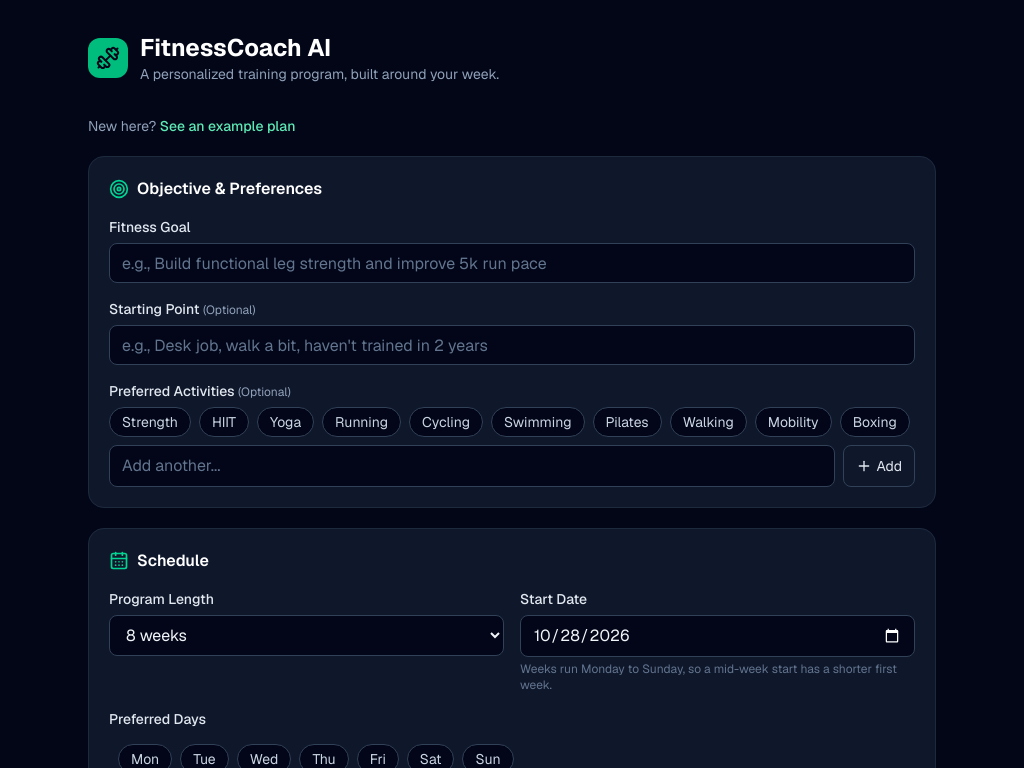
example plan › New plan returns to the form and clears the example
Step 1. Click the button "See an example plan" → (228, 126), box [160,116,296,136]
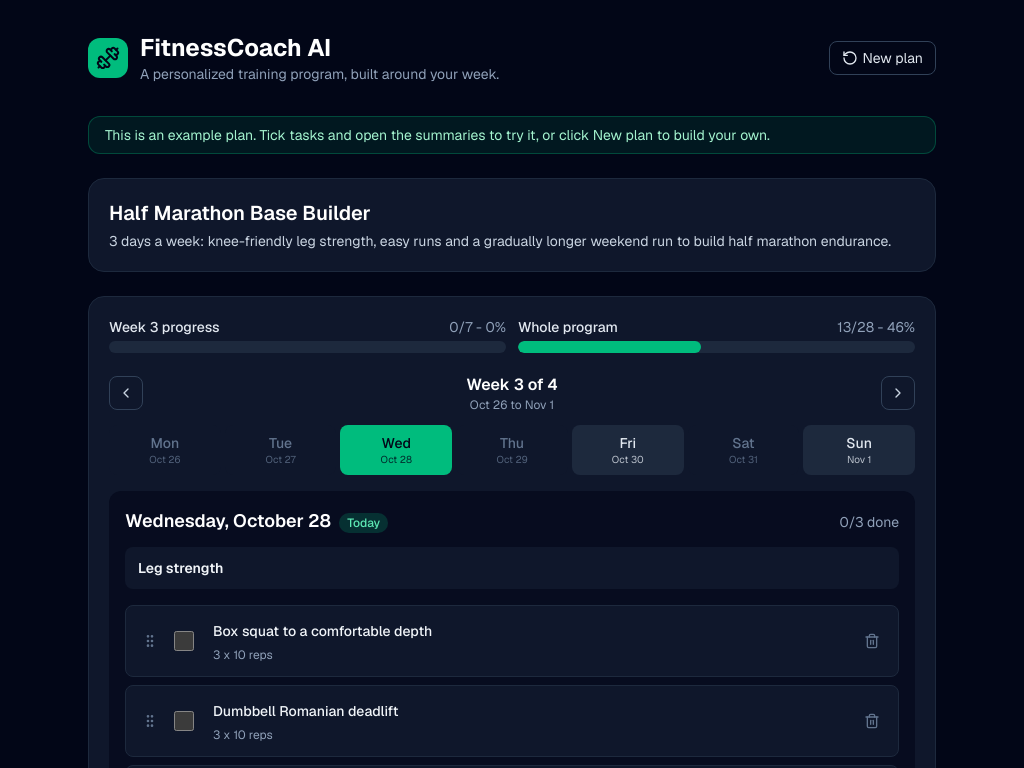
Expected: the heading "Half Marathon Base Builder" is shown, [109,200,371,226]
Step 2. Click the button "New plan" → (883, 58), box [830,41,936,75]
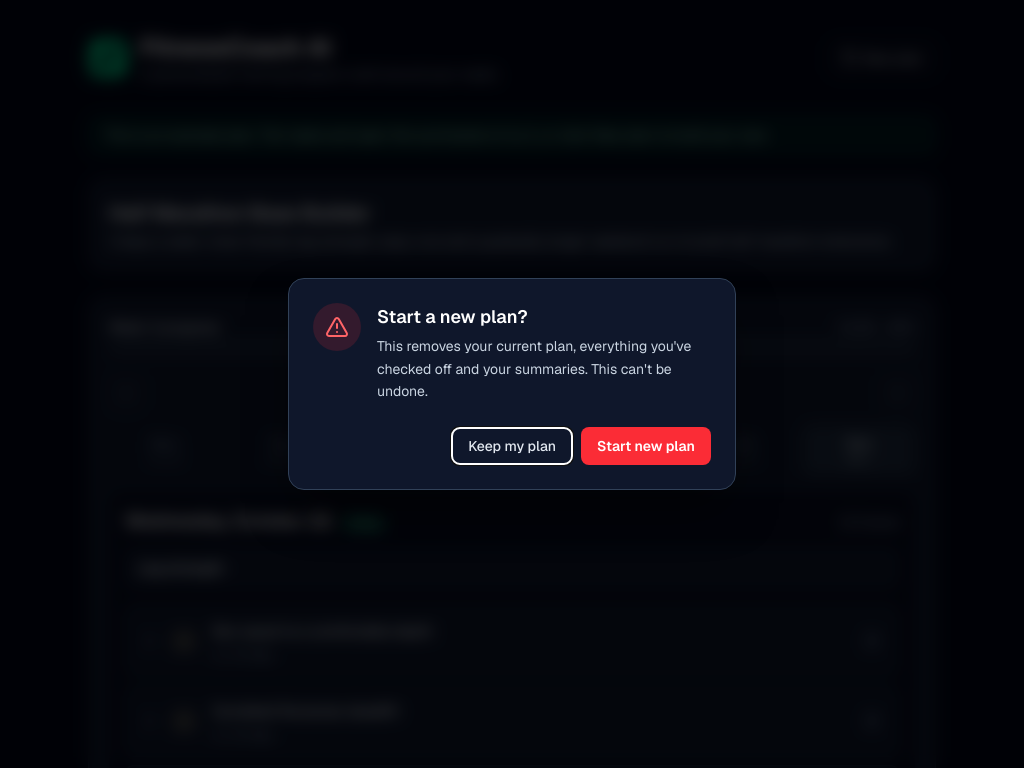
Step 3. Click the button "Start new plan" → (646, 446), box [581,427,711,465]
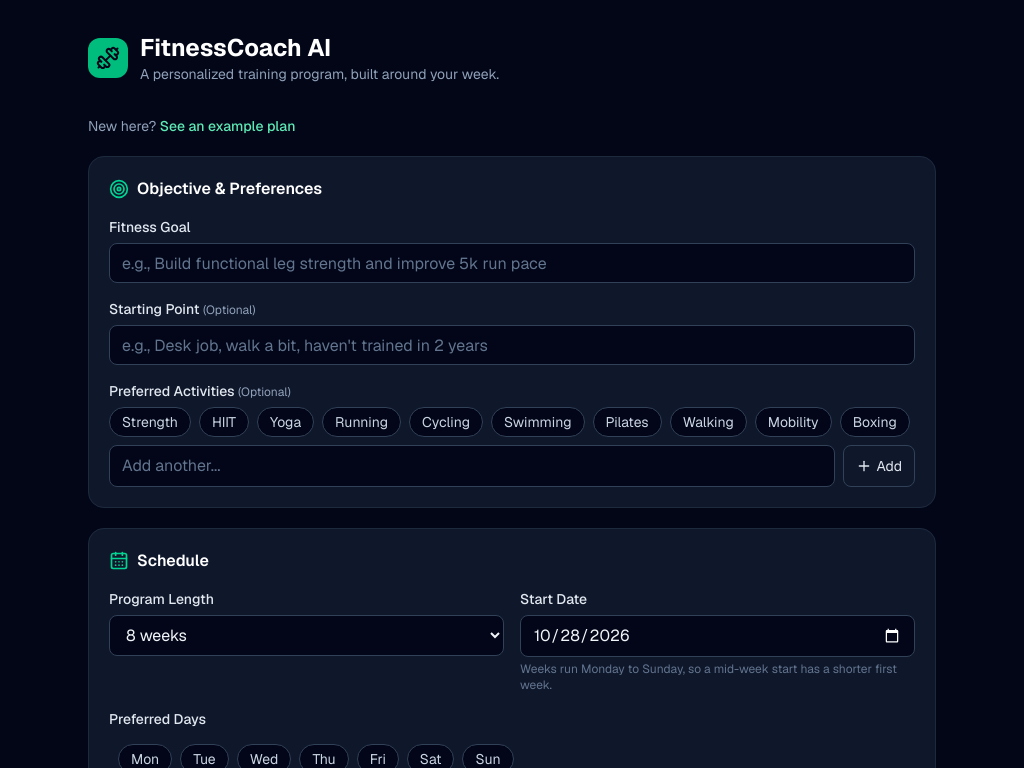
Expected: the text box labelled "Fitness Goal" is shown, [109,243,915,283]
